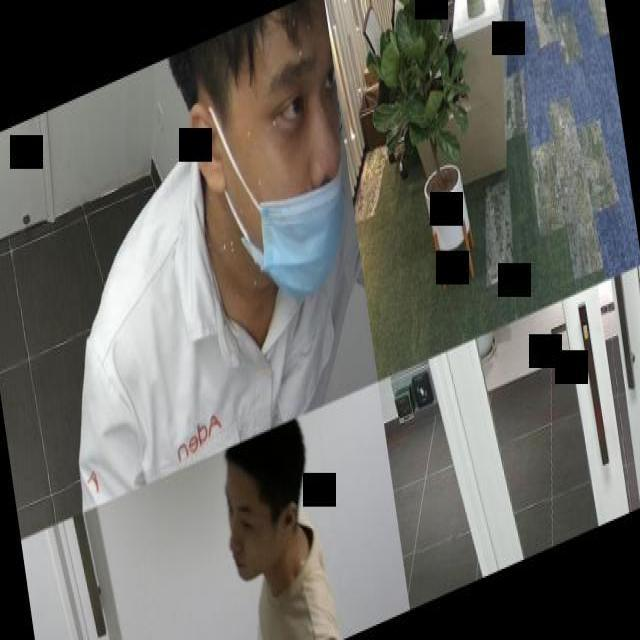hairnet: (246, 44, 345, 298)
